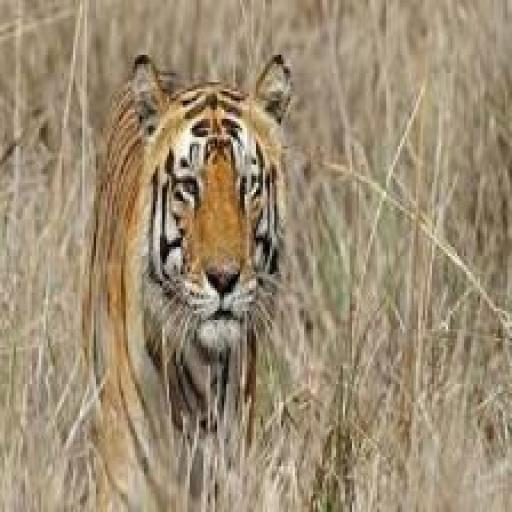Tiger: (78, 50, 296, 512)
